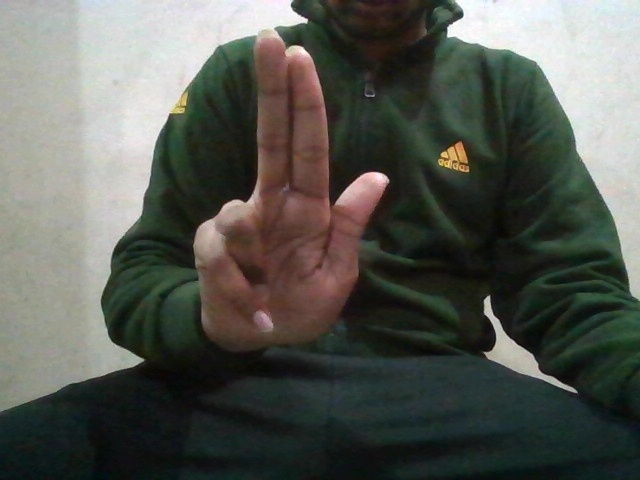K: (193, 25, 390, 354)
